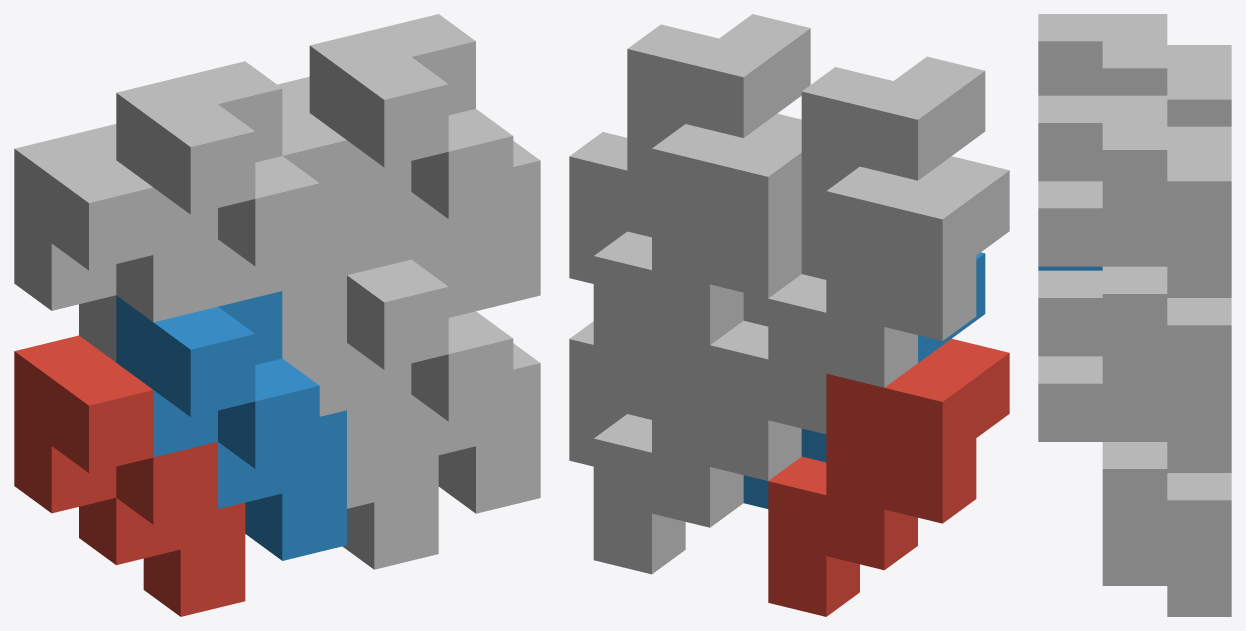
The model's file is tiling.obj.
3 views of the same model, side by side, from view 1: azimuth 30°, elevation 25°; view 2: azimuth 150°, elevation 25°; view 3: azimuth 270°, elevation 25° (orthographic). The views are drawn at different scales.
Parts seen in each view (by area): view 1: copy_1_domain_8, copy_1_domain_4, copy_1_domain_1, copy_1_domain_2, copy_1_domain_6, copy_1_domain_3, copy_1_domain_5, copy_1_domain_7; view 2: copy_1_domain_3, copy_1_domain_1, copy_1_domain_7, copy_1_domain_5, copy_1_domain_8, copy_1_domain_4, copy_1_domain_6, copy_1_domain_2; view 3: copy_1_domain_8, copy_1_domain_6, copy_1_domain_7, copy_1_domain_5, copy_1_domain_4, copy_1_domain_3, copy_1_domain_2.
Part boxes in pixels (x1=…): copy_1_domain_8: x1=309, y1=14, x2=540, y2=310; copy_1_domain_4: x1=116, y1=61, x2=346, y2=358; copy_1_domain_1: x1=14, y1=335, x2=245, y2=616; copy_1_domain_2: x1=116, y1=291, x2=346, y2=560; copy_1_domain_6: x1=347, y1=244, x2=540, y2=513; copy_1_domain_3: x1=14, y1=124, x2=217, y2=362; copy_1_domain_5: x1=282, y1=343, x2=438, y2=569; copy_1_domain_7: x1=277, y1=76, x2=411, y2=274; copy_1_domain_3: x1=768, y1=156, x2=1009, y2=434; copy_1_domain_1: x1=768, y1=338, x2=1009, y2=616; copy_1_domain_7: x1=593, y1=113, x2=801, y2=391; copy_1_domain_5: x1=593, y1=320, x2=801, y2=574; copy_1_domain_8: x1=569, y1=14, x2=810, y2=283; copy_1_domain_4: x1=743, y1=56, x2=985, y2=326; copy_1_domain_6: x1=569, y1=321, x2=651, y2=466; copy_1_domain_2: x1=743, y1=252, x2=985, y2=508; copy_1_domain_8: x1=1038, y1=95, x2=1167, y2=410; copy_1_domain_6: x1=1038, y1=270, x2=1167, y2=585; copy_1_domain_7: x1=1167, y1=126, x2=1231, y2=441; copy_1_domain_5: x1=1167, y1=442, x2=1231, y2=616; copy_1_domain_4: x1=1038, y1=14, x2=1167, y2=95; copy_1_domain_3: x1=1167, y1=45, x2=1231, y2=126; copy_1_domain_2: x1=1038, y1=266, x2=1102, y2=270.
Size of the model in its own units: 7 by 8 by 3.
